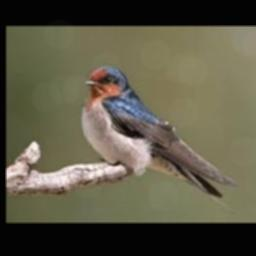Swallow: (80, 66, 242, 214)
